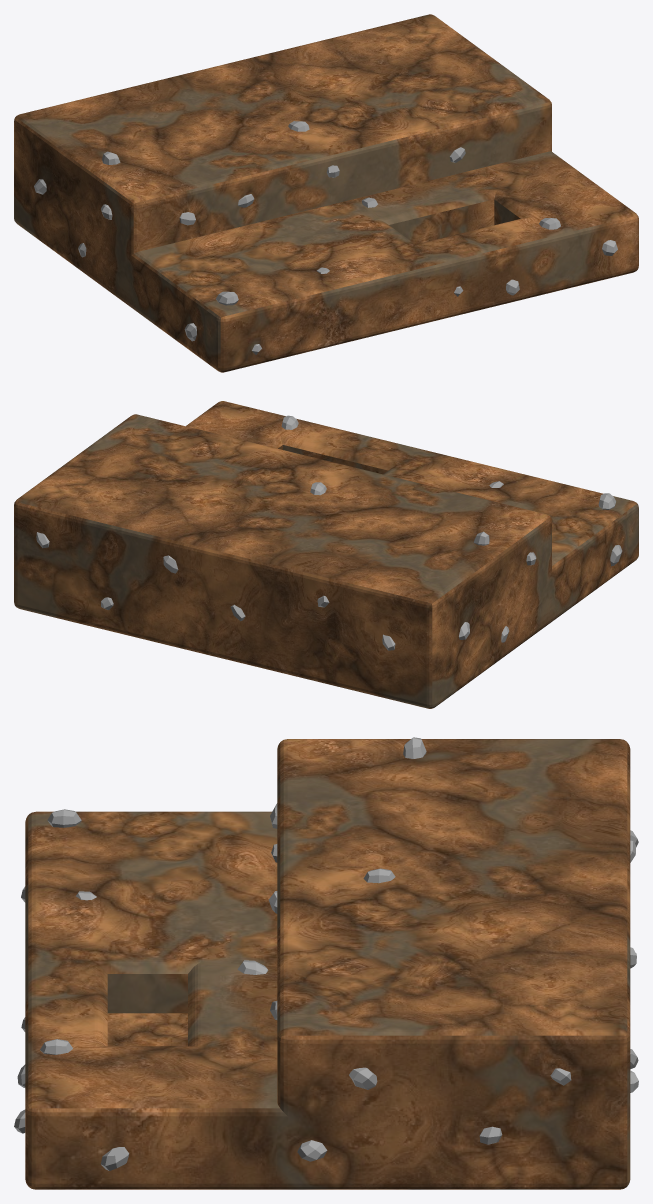
The model's file is ground.957e629c.glb.
The picture shows the model from 3 angles, top to bottom: view 1: azimuth 30°, elevation 25°; view 2: azimuth 150°, elevation 25°; view 3: azimuth 270°, elevation 25°; orthographic projection. The views are drawn at different scales.
Visible parts, largest first — view 1: ground; view 2: ground; view 3: ground.
Boxes of the visible parts, x1,y1,x2,y2 form: ground: (14,14,638,372); ground: (14,401,638,708); ground: (25,739,630,1189).
Bounding box in the file's own units: 20.71 × 5.44 × 17.7.
Materials: 2 (1 with a texture image).
